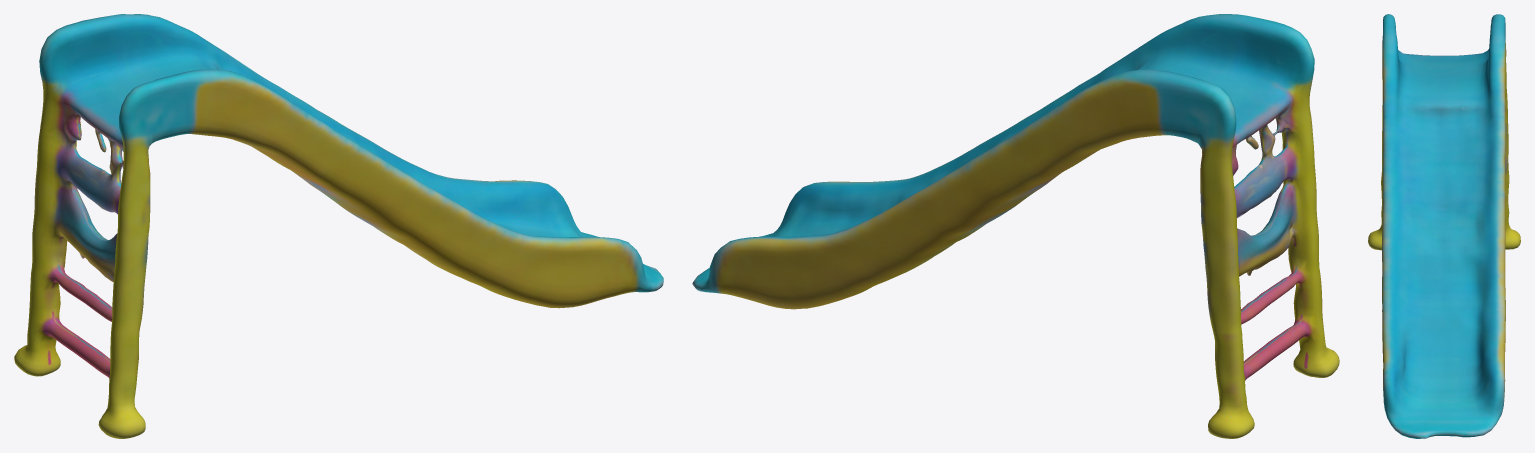
The model's file is children_s_slide.obj.
The picture shows the model from 3 angles, left to right: view 1: azimuth 30°, elevation 25°; view 2: azimuth 150°, elevation 25°; view 3: azimuth 270°, elevation 25°; orthographic projection. The views are drawn at different scales.
Visible parts, largest first — view 1: mesh; view 2: mesh; view 3: mesh.
Boxes of the visible parts, x1,y1,x2,y2 form: mesh: [14, 14, 663, 438]; mesh: [692, 14, 1339, 438]; mesh: [1368, 14, 1520, 438].
Size of the model in its own units: 0.9951 by 0.5604 by 0.3206.
Materials: 1 (1 with a texture image).
